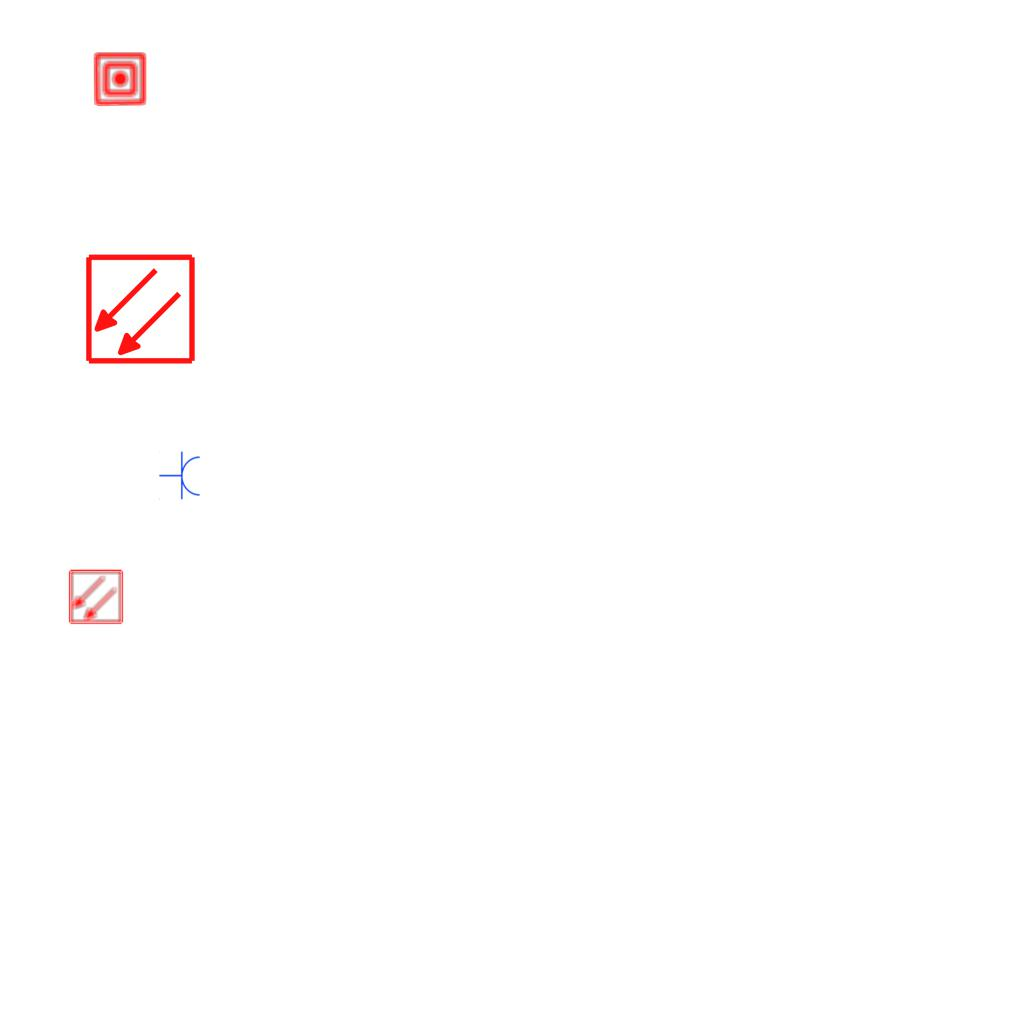NAM-Nichtautomatischer_Melder: (92, 51, 148, 107)
RMO_Rauchmelder_optischer: (84, 253, 197, 366), (68, 569, 124, 625)
Schukosteckdose_einfach: (159, 451, 202, 501)
